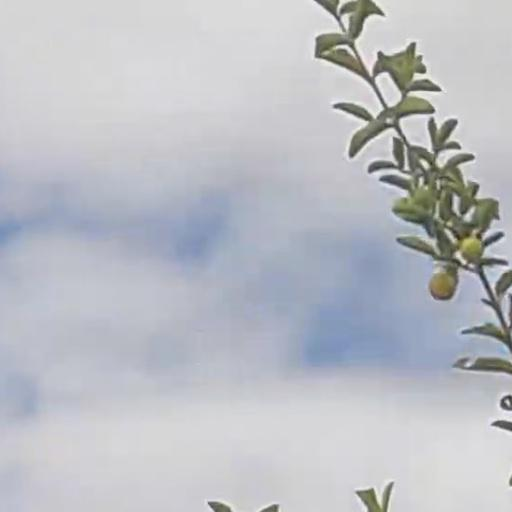acerola_vermelha: (431, 274, 454, 298)
